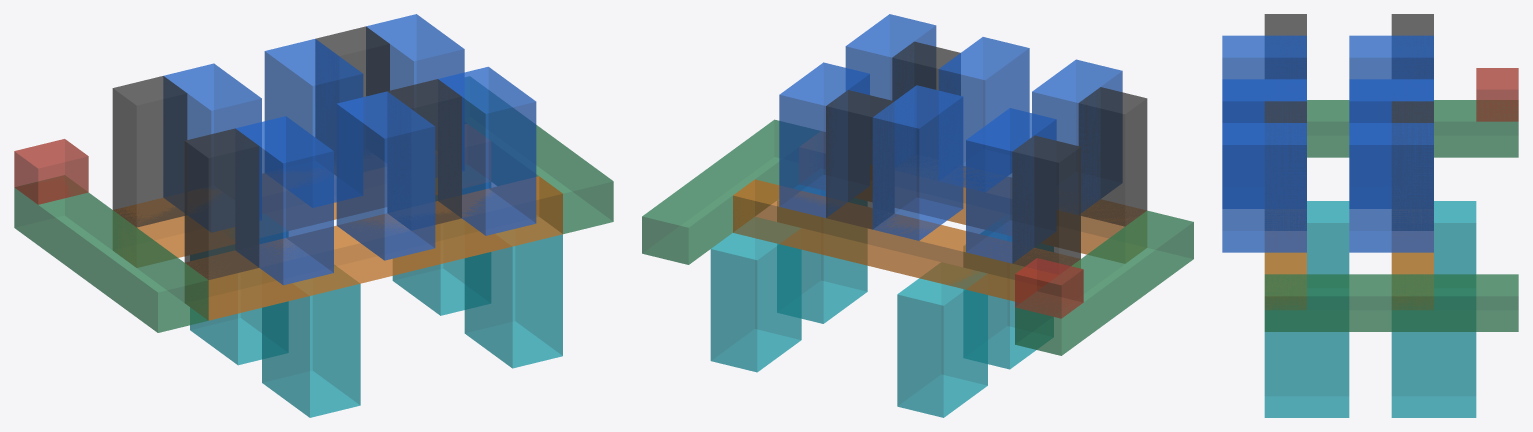
Rendered from slab_05.obj.
3 renders of one model, left to right at view 1: azimuth 30°, elevation 25°; view 2: azimuth 150°, elevation 25°; view 3: azimuth 270°, elevation 25°, orthographic. The views are drawn at different scales.
Visible parts, largest first — view 1: corridor_1, stair_W, K_1_3, K_1_1, K_1_5, K_0_3, F_1_2, F_1_6, K_0_1, box_1_0, stair_E, box_0_0 (+7 smaller); view 2: corridor_0, stair_W, K_0_3, F_0_6, K_0_5, F_0_2, K_0_1, stair_E, K_1_3, K_1_1, corridor_1, box_0_4 (+7 smaller); view 3: stair_E, K_0_5, K_1_5, F_1_6, F_0_6, stair_W, K_0_3, K_1_3, K_0_1, K_1_1, box_0_4, F_0_2 (+7 smaller).
Part boxes in pixels (box(x1,y1,x2,y2)): corridor_1: box(185, 176, 562, 320); stair_W: box(14, 175, 208, 332); K_1_3: box(336, 91, 435, 260); K_1_1: box(235, 116, 333, 285); K_1_5: box(438, 66, 536, 235); K_0_3: box(264, 38, 363, 207); F_1_2: box(262, 265, 360, 417); F_1_6: box(464, 216, 562, 368); K_0_1: box(163, 63, 261, 231); box_1_0: box(184, 128, 259, 279); stair_E: box(465, 77, 613, 234); box_0_0: box(112, 76, 187, 227); corridor_0: box(733, 179, 1080, 302); stair_W: box(1015, 210, 1193, 355); K_0_3: box(872, 85, 963, 240); F_0_6: box(710, 217, 801, 372); K_0_5: box(779, 62, 869, 217); F_0_2: box(897, 263, 987, 417); K_0_1: box(966, 108, 1056, 263); stair_E: box(642, 119, 819, 264); K_1_3: box(938, 37, 1029, 191); K_1_1: box(1032, 59, 1122, 214); corridor_1: box(799, 131, 1146, 262); box_0_4: box(826, 90, 894, 229); stair_E: box(1264, 274, 1518, 331); K_0_5: box(1349, 123, 1433, 252); K_1_5: box(1222, 123, 1306, 252); F_1_6: box(1264, 289, 1349, 417); F_0_6: box(1391, 289, 1476, 417); stair_W: box(1307, 100, 1518, 157); K_0_3: box(1349, 79, 1433, 208); K_1_3: box(1222, 79, 1306, 208); K_0_1: box(1349, 35, 1433, 122); K_1_1: box(1222, 35, 1306, 122); box_0_4: box(1391, 101, 1433, 230); F_0_2: box(1392, 201, 1476, 287).
Size of the model in its own units: 32.94 by 19.64 by 21.
